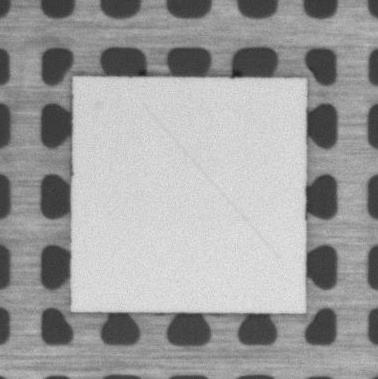DIE_CRACK: (142, 103, 278, 258)
